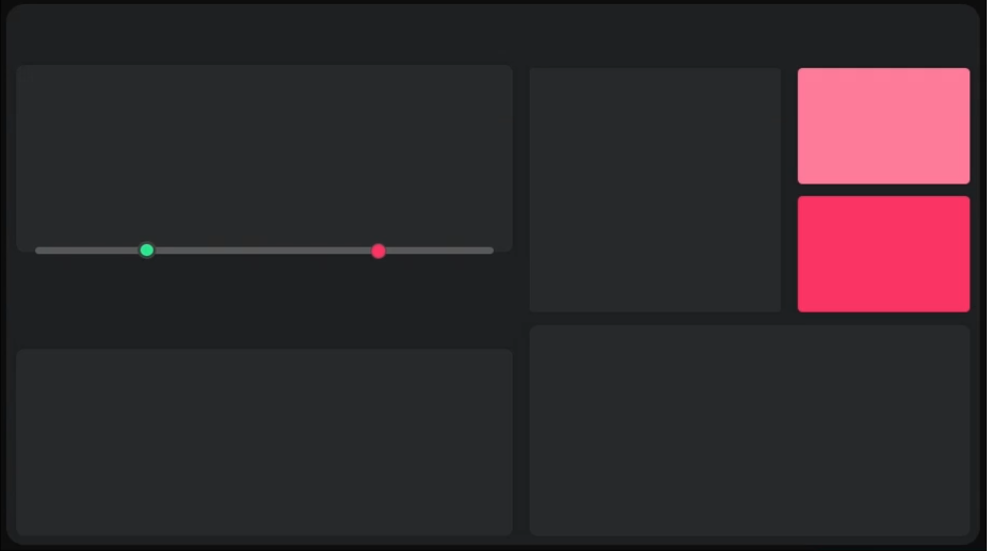

This screenshot's page, from the dashboard's own definition file:
{"tool":"powerbi","page":{"name":"Landing Page","canvas":[1280,720],"ordinal":0},"visuals":[{"type":"textbox","box":[18.4,17,547.1,80.8],"z":0},{"type":"pageNavigator","box":[31.2,130.4,148.8,177.2],"z":1000},{"type":"slicer","fields":{"Values":["Lookup_routes.RouteName"]},"box":[1070.1,4.6,197,53.9],"z":2000},{"type":"textbox","box":[860.3,13.8,209.8,35.4],"z":3000}]}

Visuals, with their boxes in screenshot pixels (x1, y1, x2, y2), scaled from the page's 1280x720 canvas onto the 987x551 screenshot:
textbox: BBox(14, 13, 436, 75)
pageNavigator: BBox(24, 100, 139, 235)
slicer - Lookup_routes.RouteName: BBox(825, 4, 977, 45)
textbox: BBox(663, 11, 825, 38)
